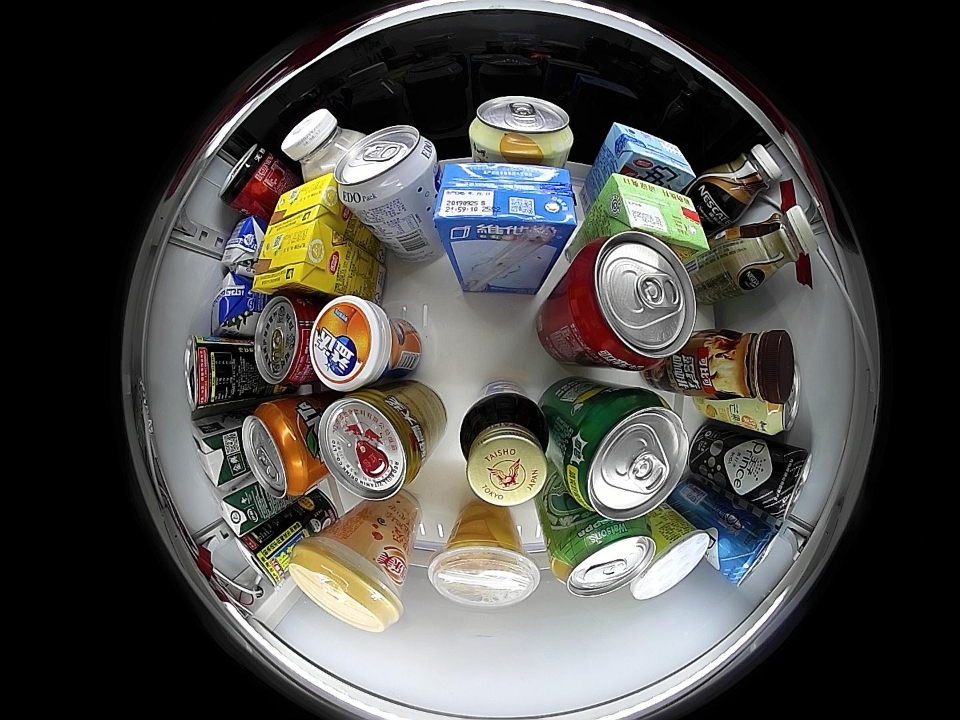anmuxi: (210, 273, 256, 337), (220, 216, 265, 277)
fenda: (242, 400, 316, 499)
hongniu: (318, 390, 426, 500)
jindian: (189, 417, 238, 487), (207, 478, 258, 536)
kafei: (727, 204, 817, 285), (702, 144, 783, 215)
kebike: (631, 518, 711, 600)
kele: (565, 231, 698, 370)
libaojian: (460, 393, 550, 507)
lingdukele: (219, 144, 280, 213)
lujikafei: (702, 329, 796, 405)
mangguoxiaolao: (469, 96, 574, 160), (755, 364, 801, 433)
qingdaowangzi-1: (761, 445, 812, 516)
qingdaowangzi-2: (713, 515, 781, 587)
quchenshixiangcao: (550, 517, 655, 598)
rusuanjunqishui: (336, 124, 437, 214)
wanglaoji: (601, 171, 710, 257)
wangzainiunai: (252, 296, 317, 387)
weitanai: (432, 161, 579, 248)
weitanaiditang: (603, 122, 695, 188)
weitaningmeng: (252, 219, 342, 297), (267, 174, 342, 234)
weiweidounai: (282, 109, 366, 181)
xianguolao: (428, 532, 541, 607)
xuebi2: (560, 388, 690, 522)
yezhi: (185, 335, 227, 412), (240, 532, 290, 590)
yida: (309, 295, 395, 391)
youlemei: (288, 534, 404, 632)
